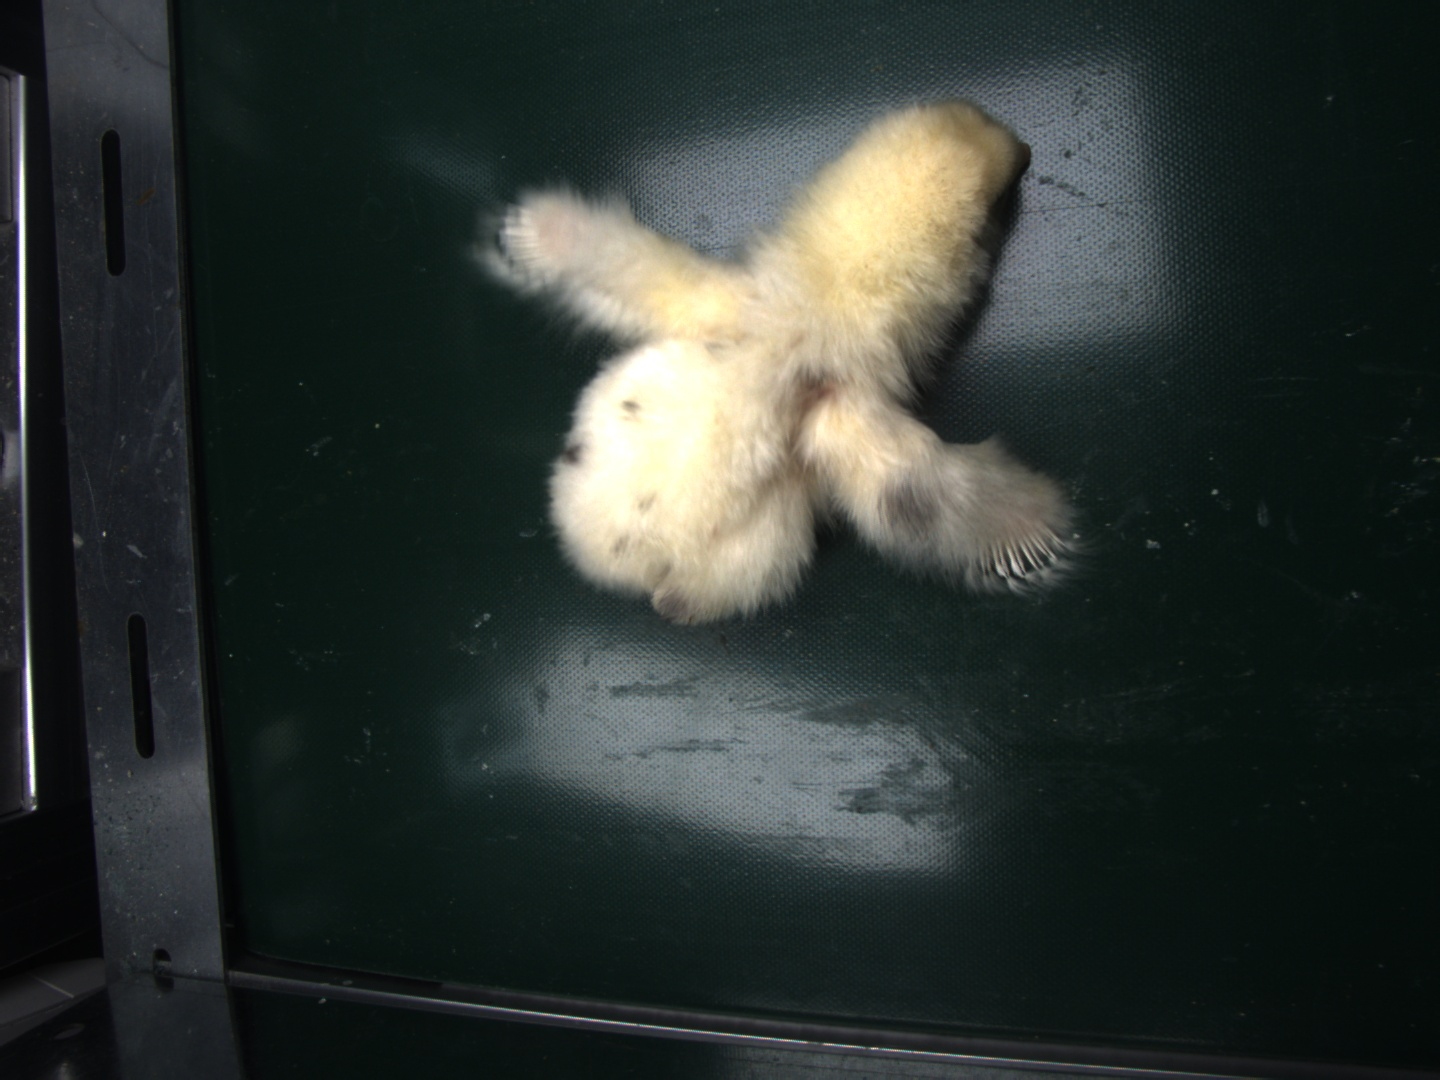male: (979, 525, 1067, 580)
